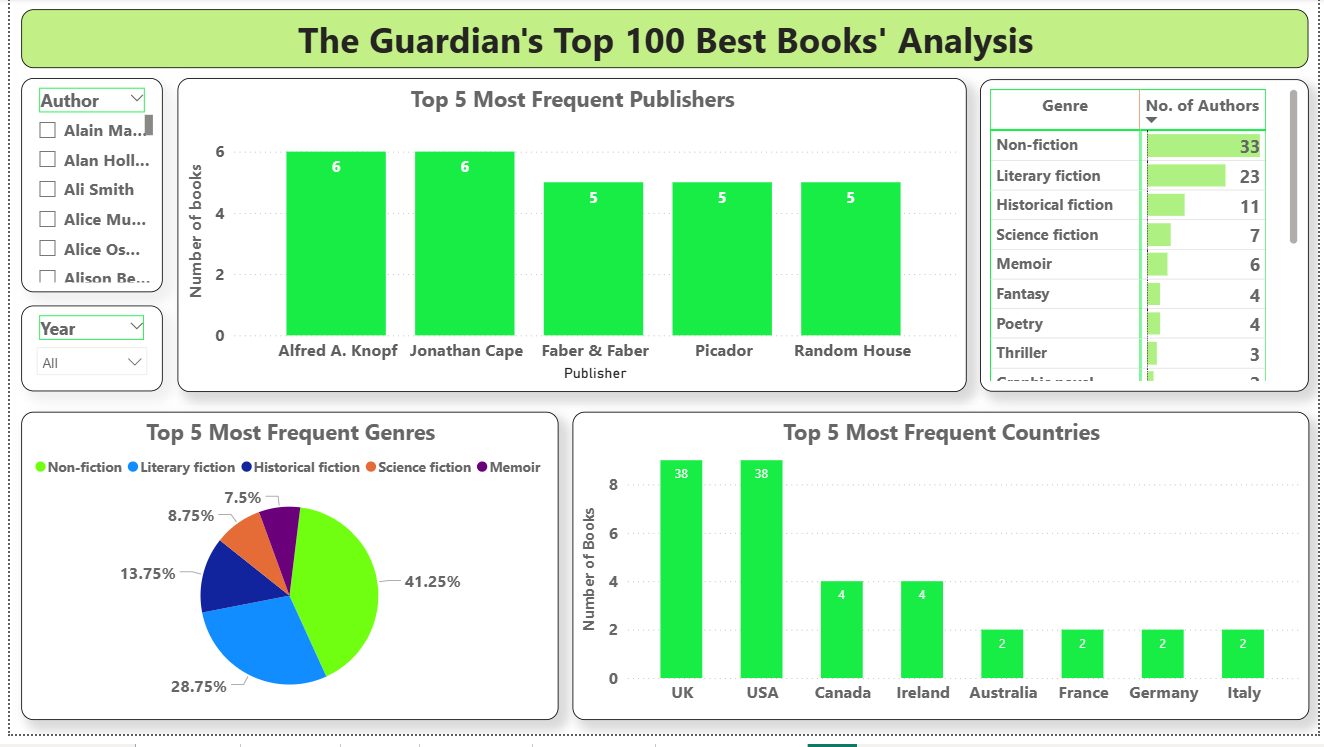

The dashboard page shown, as its layout file describes it:
{"tool":"powerbi","page":{"name":"Guardian","canvas":[1280,720],"ordinal":3},"visuals":[{"type":"columnChart","title":"Top 5 Most Frequent Publishers","fields":{"Y":["CountNonNull(Guardian_100_mustreads.Title)"],"Category":["Guardian_100_mustreads.Publisher"]},"box":[163.9,78.3,771.6,306.9],"z":0},{"type":"pieChart","title":"Top 5 Most Frequent Genres","fields":{"Y":["CountNonNull(Guardian_100_mustreads.Title)"],"Category":["Guardian_100_mustreads.Genre"]},"box":[11,404.8,525.6,301.9],"z":1000},{"type":"columnChart","title":"Top 5 Most Frequent Countries","fields":{"Y":["CountNonNull(Guardian_100_mustreads.Title)"],"Category":["Guardian_100_mustreads.Country"]},"box":[550.3,404.8,720.4,301.9],"z":2000},{"type":"pivotTable","fields":{"Rows":["Guardian_100_mustreads.Genre"],"Values":["CountNonNull(Guardian_100_mustreads.Author)"]},"box":[948.9,79.5,321.6,305.7],"z":3000},{"type":"slicer","fields":{"Values":["Guardian_100_mustreads.Year"]},"box":[11,300.8,138.2,84.4],"z":4000},{"type":"textbox","title":"The Guardian''s Top 100 Best Books'' Analysis","box":[11,11,1259.5,57.5],"z":5000},{"type":"slicer","fields":{"Values":["Guardian_100_mustreads.Author"]},"box":[11,78.2,138.6,209.9],"z":6000}]}

Visuals, with their boxes in screenshot pixels (x1, y1, x2, y2), scaled from the page's 1280x720 canvas onto the 1324x747 screenshot:
"Top 5 Most Frequent Publishers" columnChart: <region>170, 81, 968, 400</region>
"Top 5 Most Frequent Genres" pieChart: <region>11, 420, 555, 733</region>
"Top 5 Most Frequent Countries" columnChart: <region>569, 420, 1314, 733</region>
pivotTable - Guardian_100_mustreads.Genre x CountNonNull(Guardian_100_mustreads.Author): <region>982, 82, 1314, 400</region>
slicer - Guardian_100_mustreads.Year: <region>11, 312, 154, 400</region>
"The Guardian''s Top 100 Best Books'' Analysis" textbox: <region>11, 11, 1314, 71</region>
slicer - Guardian_100_mustreads.Author: <region>11, 81, 155, 299</region>
